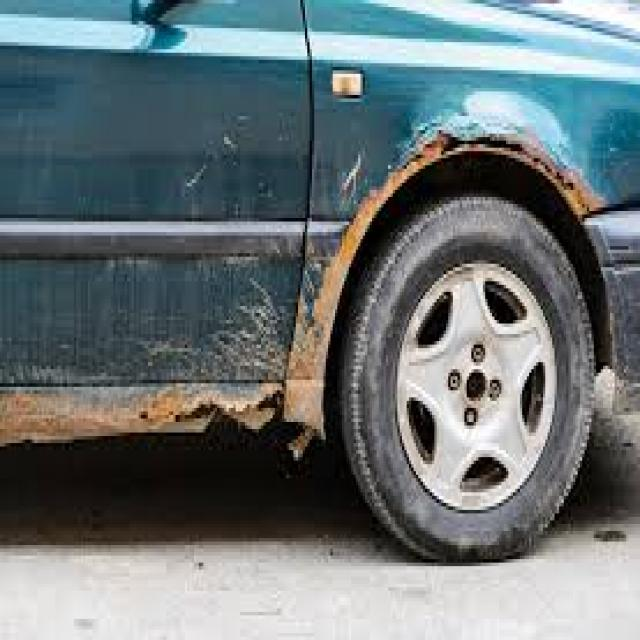minor: (54, 168, 632, 420)
